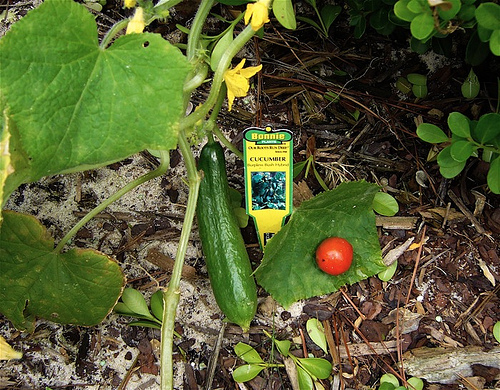cucumber: (197, 128, 258, 338)
